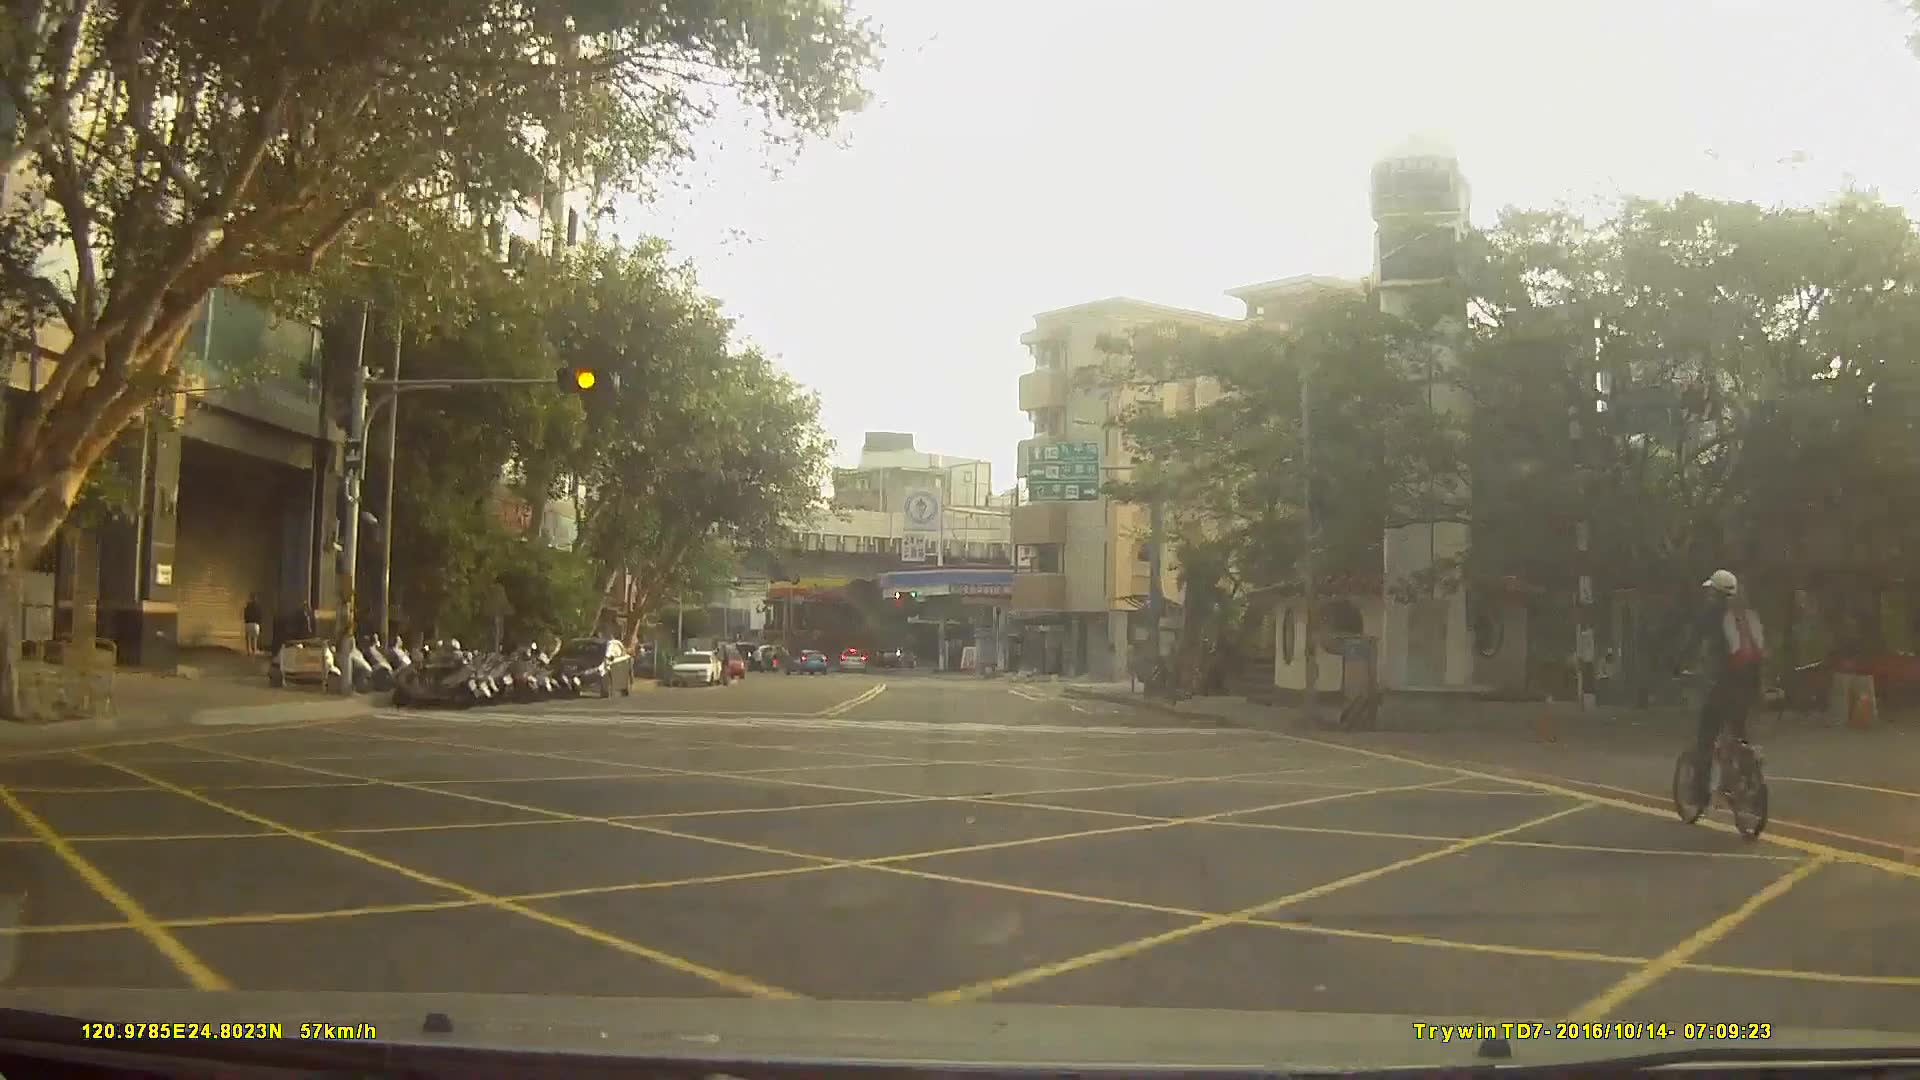pedestrian: (244, 590, 264, 656)
rider: (1664, 572, 1778, 844)
vehicle: (1777, 630, 1920, 708), (546, 634, 632, 697), (668, 646, 721, 685), (786, 645, 826, 674), (837, 643, 867, 671)
